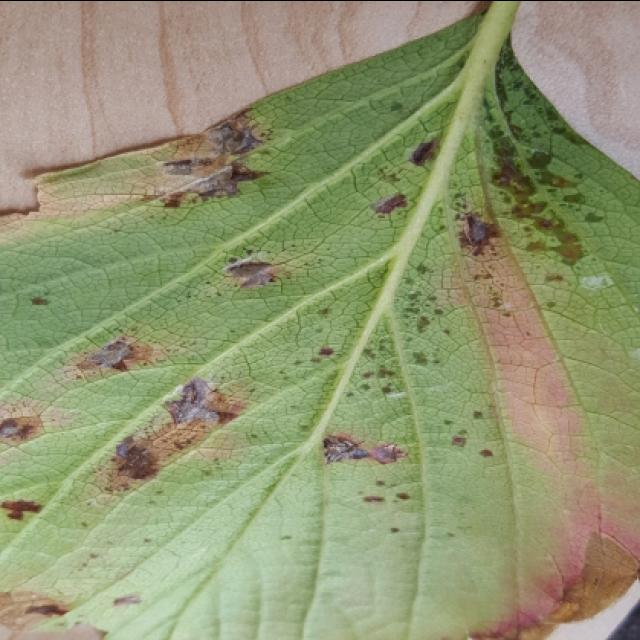Angular Leafspot: (0, 7, 638, 640)
